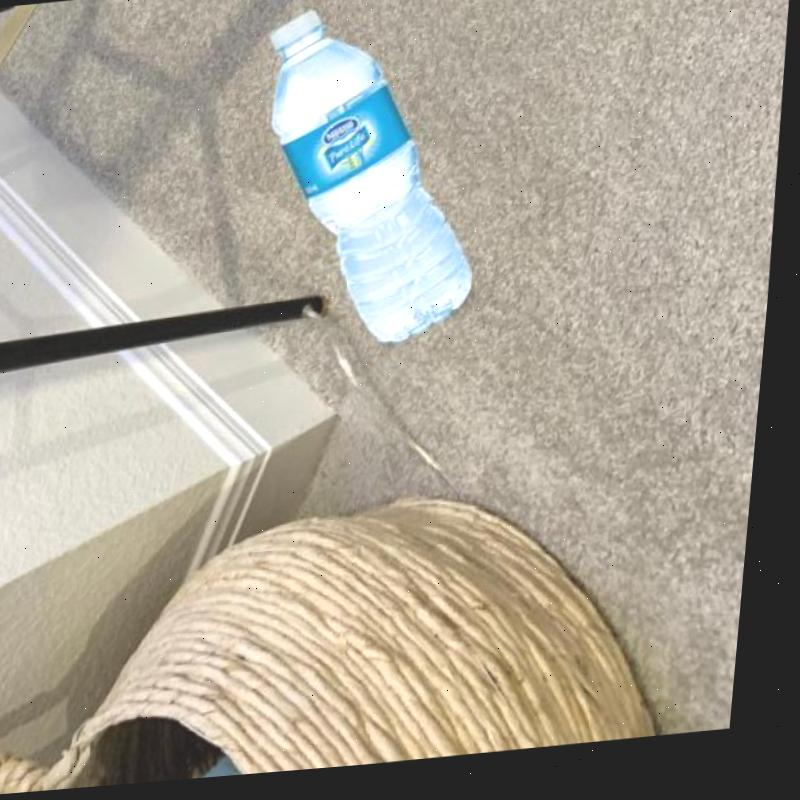botella: (248, 0, 497, 363)
